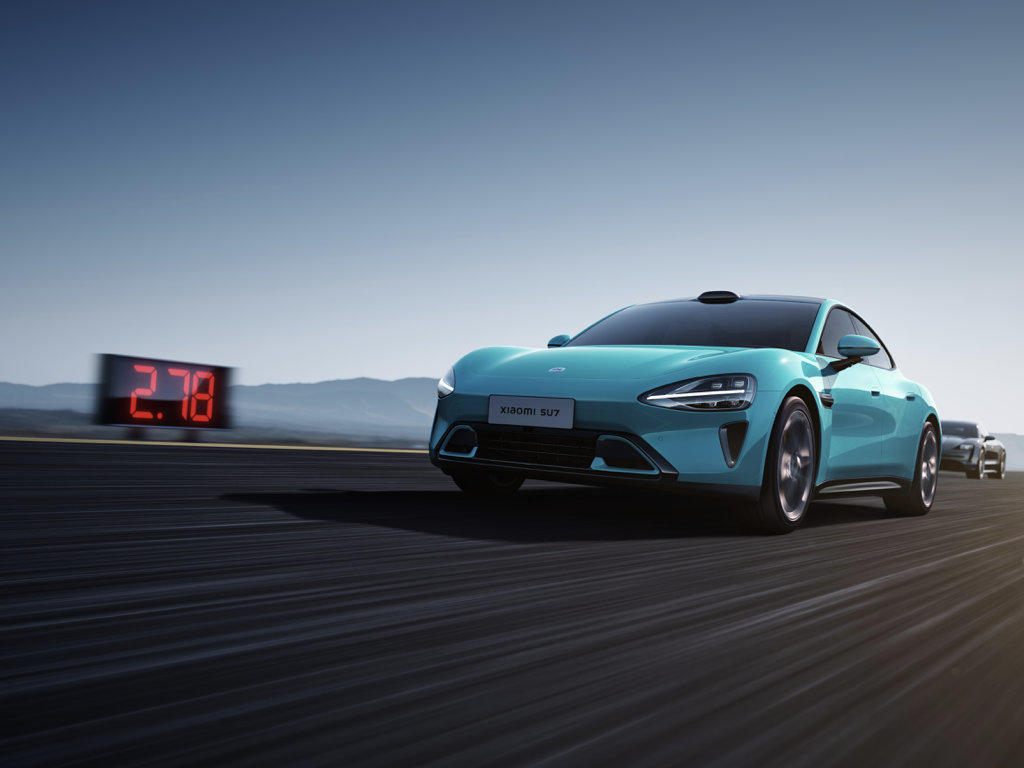other: (938, 414, 1015, 487)
su7: (434, 282, 944, 522)
